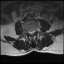CCS_normal: (30, 29, 32, 37)
LFS_normal: (34, 27, 36, 34)
LLS_normal: (32, 28, 34, 35)
RFS_normal: (26, 28, 28, 34)
RLS_normal: (28, 29, 30, 36)
